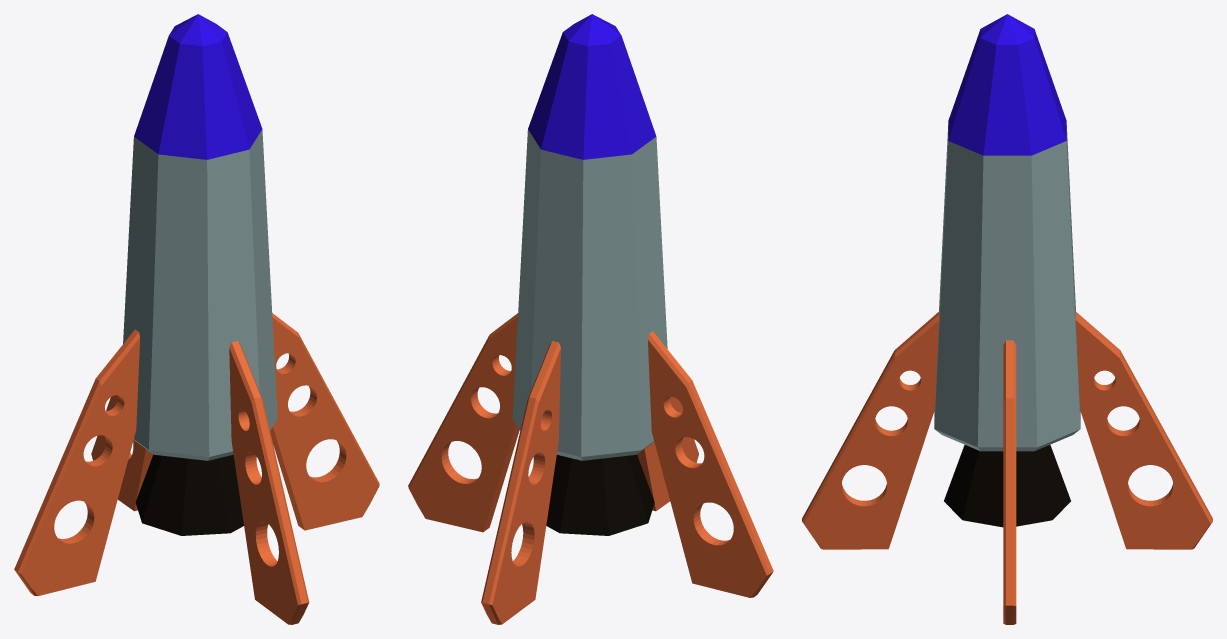
The model's file is rocket.fbx.
3 renders of one model, left to right at view 1: azimuth 30°, elevation 25°; view 2: azimuth 150°, elevation 25°; view 3: azimuth 270°, elevation 25°, orthographic.
Visible parts, largest first — view 1: Body, Legs.001, Legs, Nose, Nozzle; view 2: Body, Legs.001, Legs, Nose, Nozzle; view 3: Body, Legs, Nose, Nozzle, Legs.001.
Part boxes in pixels (x1,y1,x2,y2): Body: [123, 129, 277, 460]; Legs.001: [14, 313, 379, 595]; Legs: [91, 341, 309, 624]; Nose: [134, 14, 262, 159]; Nozzle: [135, 454, 243, 535]; Body: [512, 129, 667, 460]; Legs.001: [408, 313, 773, 597]; Legs: [481, 341, 698, 624]; Nose: [528, 14, 656, 159]; Nozzle: [546, 454, 654, 535]; Body: [934, 125, 1080, 451]; Legs: [802, 311, 1212, 549]; Nose: [948, 14, 1066, 155]; Nozzle: [944, 445, 1070, 527]; Legs.001: [1003, 340, 1016, 624].
Bounding box in the file's own units: 559 × 798 × 559.
